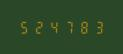eight: (74, 20, 87, 34)
five: (17, 20, 30, 34)
four: (46, 20, 59, 34)
seven: (60, 20, 73, 34)
three: (88, 20, 101, 34)
two: (31, 20, 44, 34)
